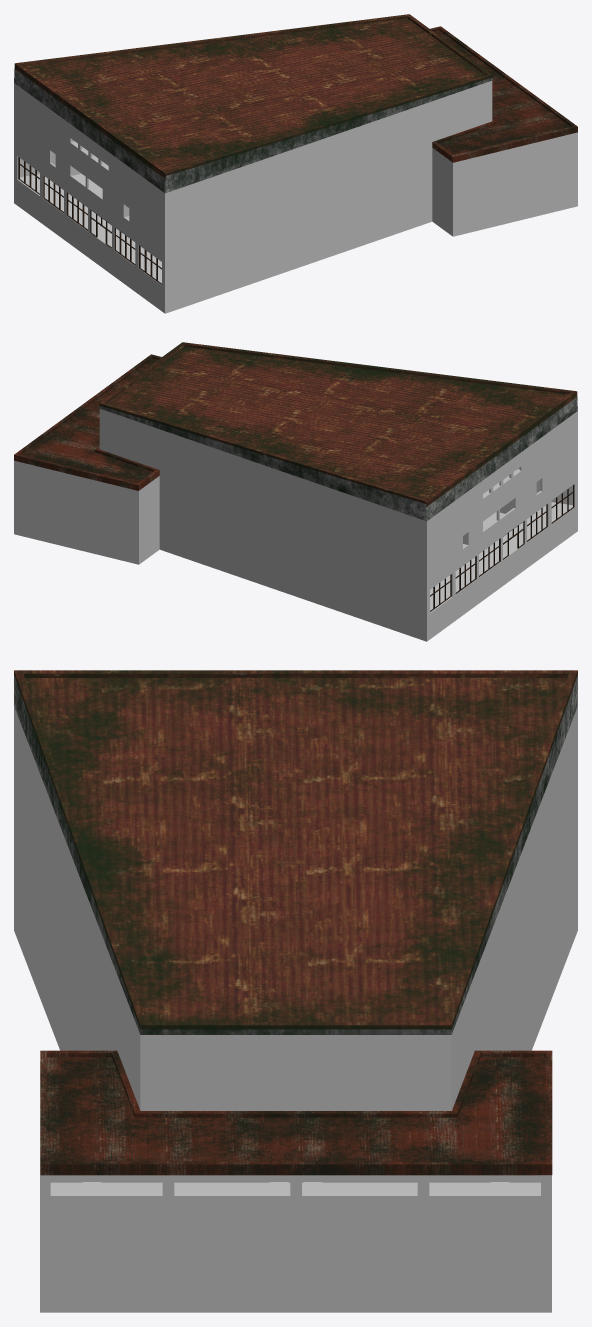
File: PREUBADECINEJASJAJS.fbx
3 views of the same model, one above another, from view 1: azimuth 30°, elevation 25°; view 2: azimuth 150°, elevation 25°; view 3: azimuth 270°, elevation 25° (orthographic). The views are drawn at different scales.
Parts seen in each view (by area): view 1: EDIFICIOCINE´prueba3, TECHODECINEsinuvsss, TECHODECASAsinuvs; view 2: EDIFICIOCINE´prueba3, TECHODECINEsinuvsss, TECHODECASAsinuvs; view 3: TECHODECINEsinuvsss, EDIFICIOCINE´prueba3, TECHODECASAsinuvs.
Boxes of the visible parts, left/top/right/bottom form: EDIFICIOCINE´prueba3: left=14, top=81, right=577, bottom=313; TECHODECINEsinuvsss: left=14, top=14, right=492, bottom=193; TECHODECASAsinuvs: left=430, top=26, right=577, bottom=162; EDIFICIOCINE´prueba3: left=14, top=409, right=577, bottom=641; TECHODECINEsinuvsss: left=99, top=342, right=577, bottom=521; TECHODECASAsinuvs: left=14, top=354, right=161, bottom=490; TECHODECINEsinuvsss: left=14, top=670, right=577, bottom=1034; EDIFICIOCINE´prueba3: left=14, top=706, right=577, bottom=1312; TECHODECASAsinuvs: left=40, top=1050, right=552, bottom=1175.
Bounding box in the file's own units: 4651 × 1480 × 2900.
